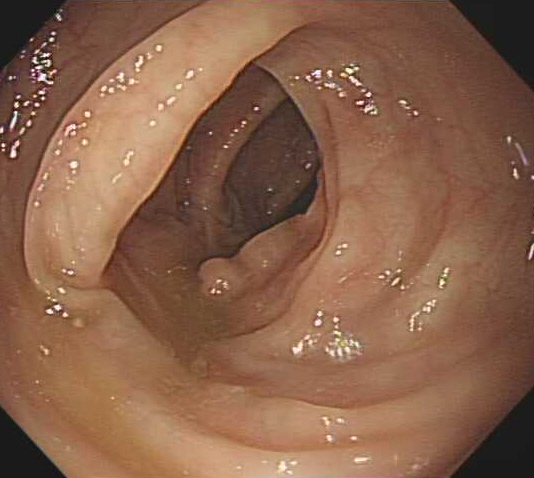adenoma: (194, 252, 258, 305)
